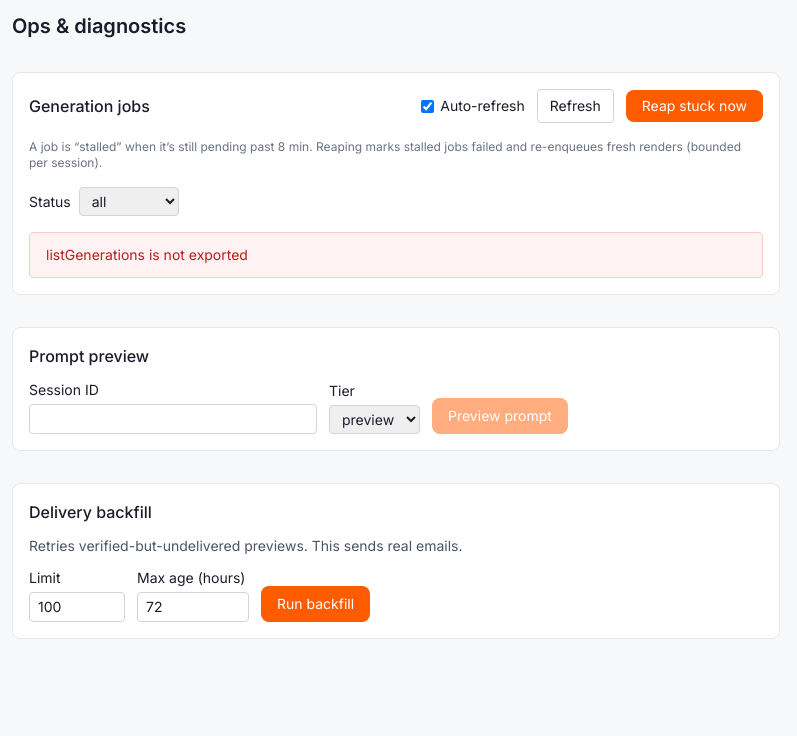
OpsView prompt preview › fetches and displays the prompt
The width and height of the screenshot is (797, 736).
Type "sess-1" into the field labelled "Session ID" at (173, 419), box [29,404,317,434]
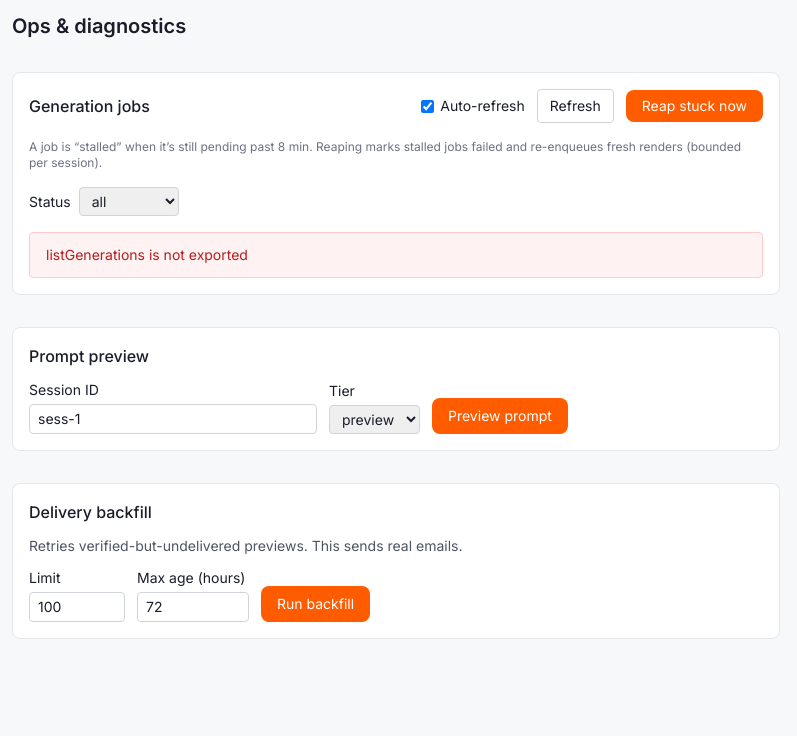
Click the button "Preview prompt" at (500, 416), box [432,398,568,434]
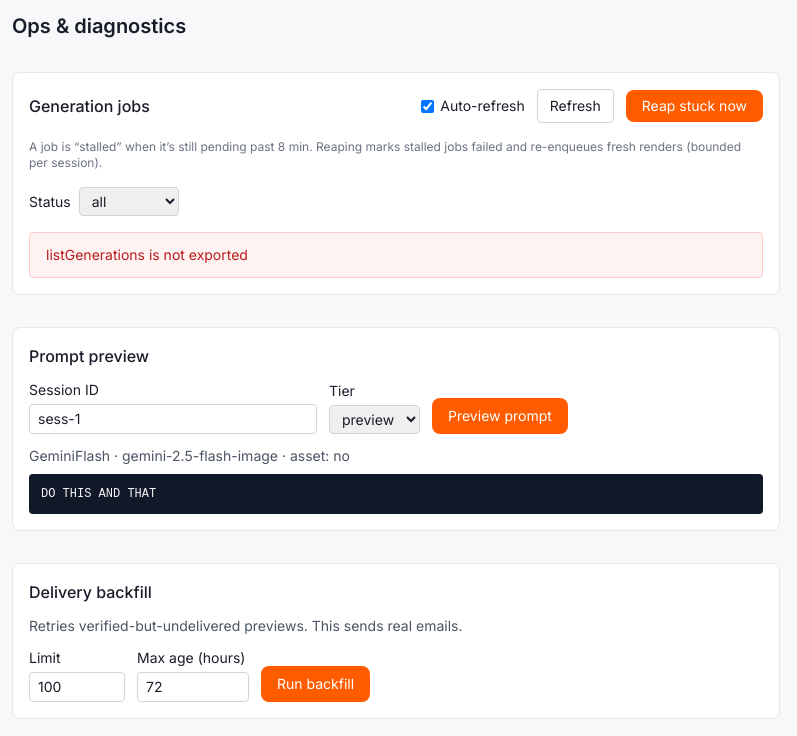
Now the text "DO THIS AND THAT" is shown, box [29,474,763,514]
